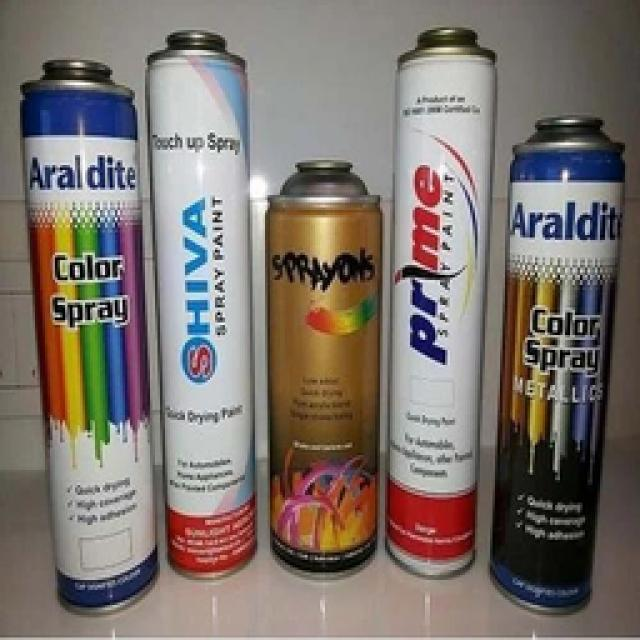zat_kimia: (15, 67, 152, 613), (481, 117, 628, 615), (386, 32, 495, 576), (146, 35, 253, 578), (266, 167, 382, 578)
